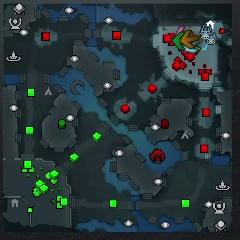x1: (176, 25, 184, 34)
x3: (182, 43, 197, 52)
x4: (174, 32, 184, 51)
x5: (181, 31, 200, 48)
